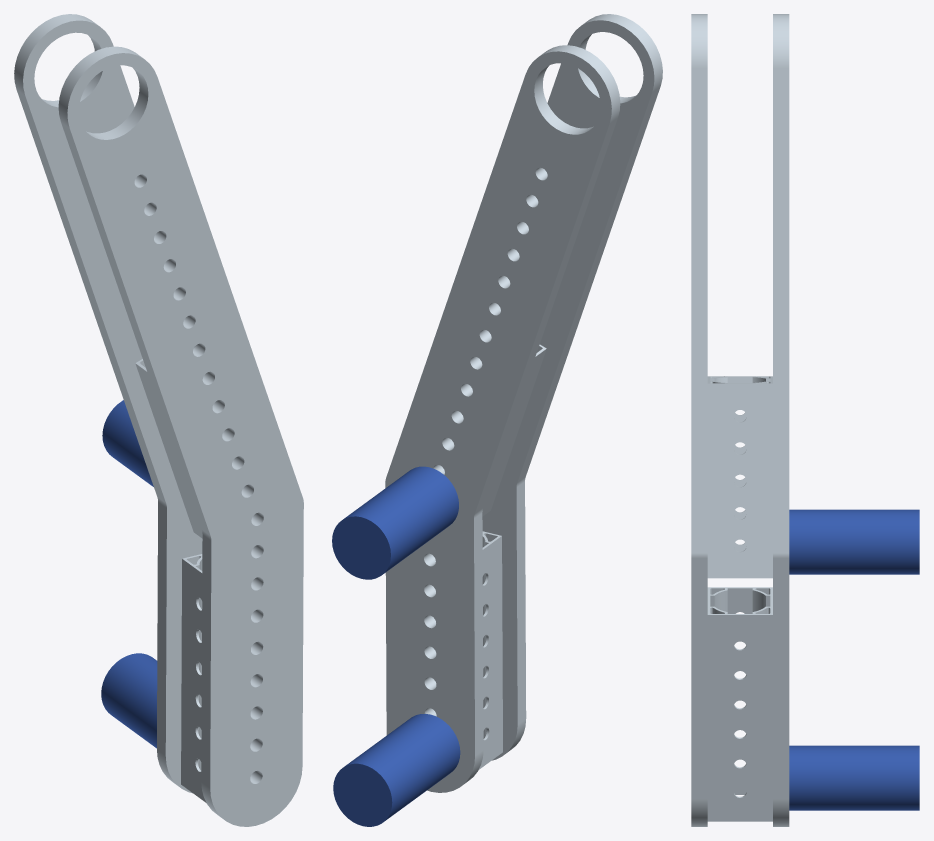
3 renders of one model, left to right at view 1: azimuth 30°, elevation 25°; view 2: azimuth 150°, elevation 25°; view 3: azimuth 270°, elevation 25°, orthographic. The views are drawn at different scales.
Visible parts, largest first — view 1: Upper Arm Plate (×2), Pin (×2), Tube 1"x1"x3.5", Tube 1"x1"x3"; view 2: Upper Arm Plate (×2), Pin (×2), Tube 1"x1"x3.5", Tube 1"x1"x3"; view 3: Upper Arm Plate (×2), Pin (×2), Tube 1"x1"x3.5", Tube 1"x1"x3".
Part boxes in pixels (box(x1,y1,x2,y2)): Upper Arm Plate (×2): box(14, 14, 303, 826); Pin (×2): box(101, 400, 157, 748); Tube 1"x1"x3.5": box(181, 554, 252, 802); Tube 1"x1"x3": box(135, 359, 243, 538); Upper Arm Plate (×2): box(385, 14, 662, 792); Pin (×2): box(332, 466, 460, 826); Tube 1"x1"x3.5": box(434, 531, 502, 769); Tube 1"x1"x3": box(471, 332, 546, 516); Upper Arm Plate (×2): box(691, 14, 789, 826); Pin (×2): box(789, 509, 919, 810); Tube 1"x1"x3.5": box(707, 587, 772, 821); Tube 1"x1"x3": box(707, 376, 772, 578).
Size of the model in its own units: 0.0975 by 0.3178 by 0.0889.
